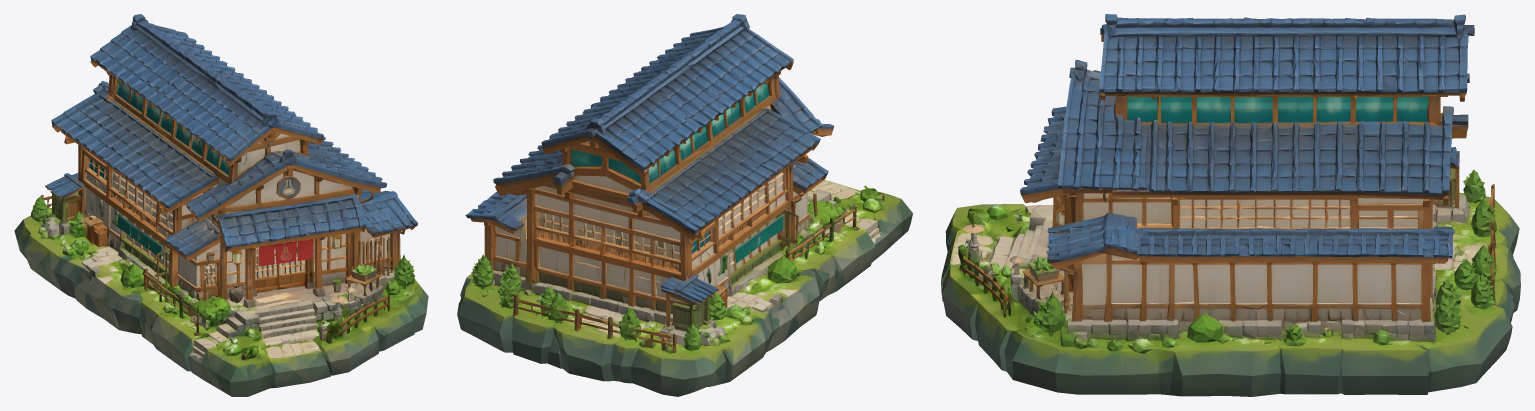
File: source.glb
3 renders of one model, left to right at view 1: azimuth 30°, elevation 25°; view 2: azimuth 150°, elevation 25°; view 3: azimuth 270°, elevation 25°, orthographic. The views are drawn at different scales.
Visible parts, largest first — view 1: model; view 2: model; view 3: model.
Boxes of the visible parts, x1,y1,x2,y2 form: model: [14, 14, 428, 396]; model: [457, 14, 912, 396]; model: [941, 14, 1520, 396].
Bounding box in the file's own units: 1.33 × 1.07 × 1.9.
1 material, 1 textured.
